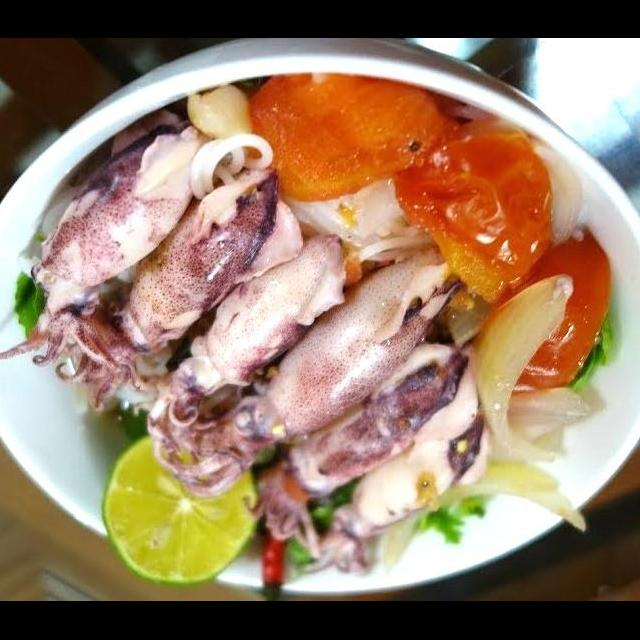bun: (180, 128, 448, 270)
muc: (142, 240, 466, 506), (50, 160, 306, 418), (237, 330, 480, 562), (105, 227, 354, 448), (0, 116, 207, 367), (281, 360, 498, 586)
